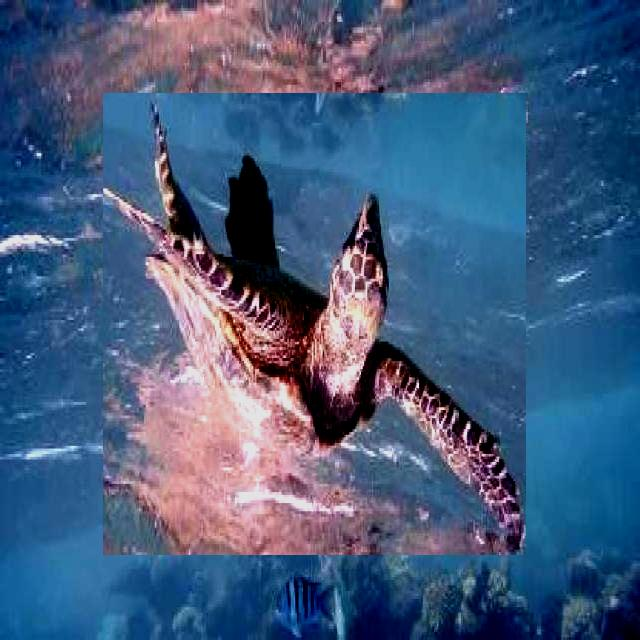Sea turtle: (104, 93, 528, 555)
